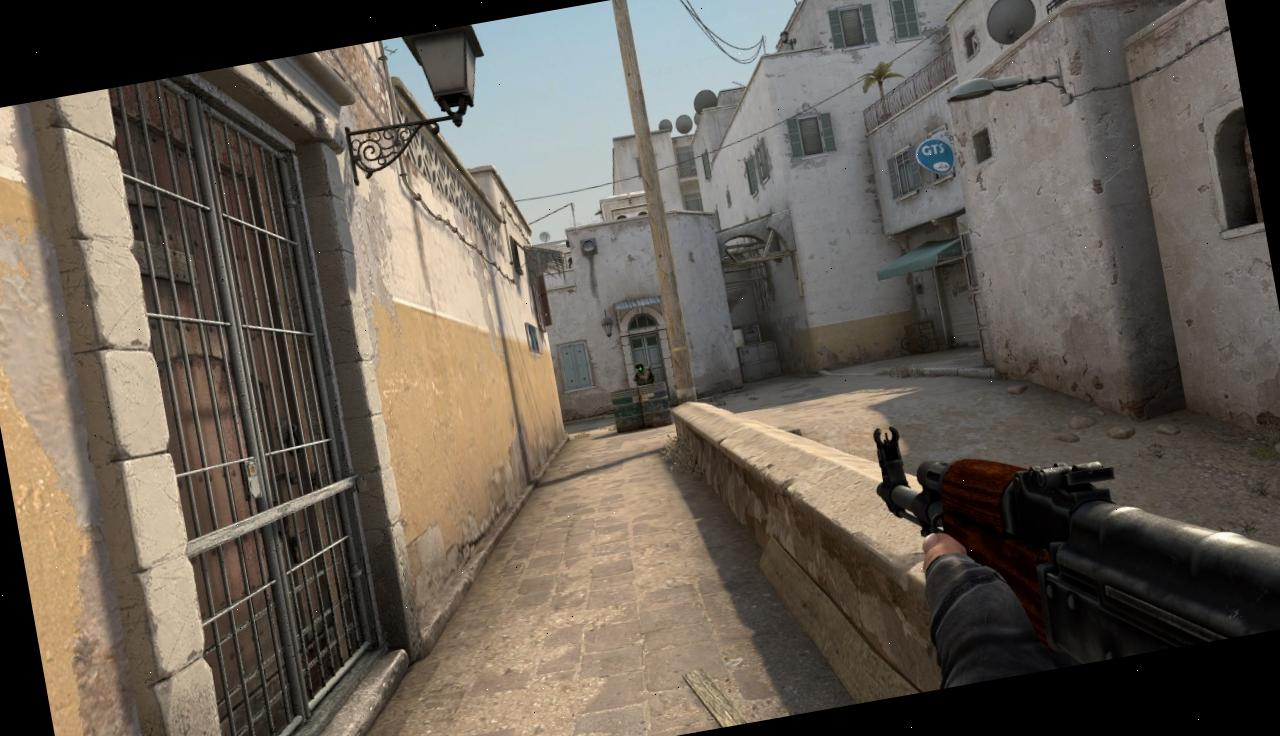ct: (632, 361, 654, 386)
cthead: (636, 363, 644, 372)
rifle: (866, 354, 1280, 693)
